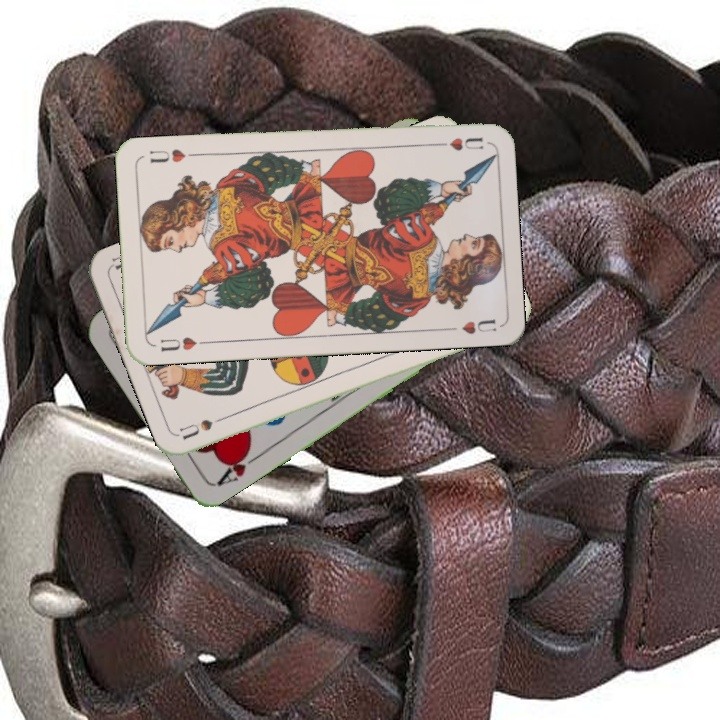HA: (212, 444, 263, 489)
HU: (429, 133, 486, 153), (156, 333, 199, 354)
SU: (177, 409, 235, 443)
